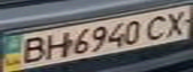0: (121, 17, 148, 46)
4: (106, 20, 130, 48)
6: (69, 26, 93, 56)
9: (87, 24, 112, 53)
B: (15, 34, 48, 65)
C: (139, 12, 175, 42)
H: (42, 29, 72, 60)
X: (160, 7, 193, 37)
